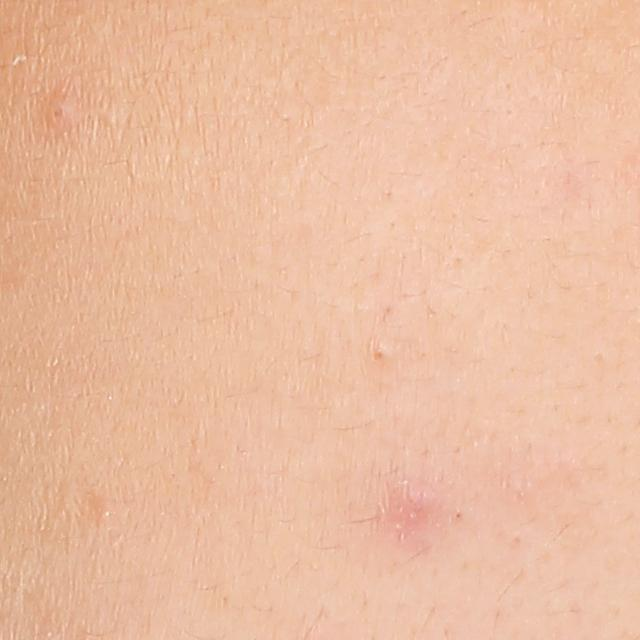comedo: (43, 91, 76, 129), (86, 499, 119, 527)
